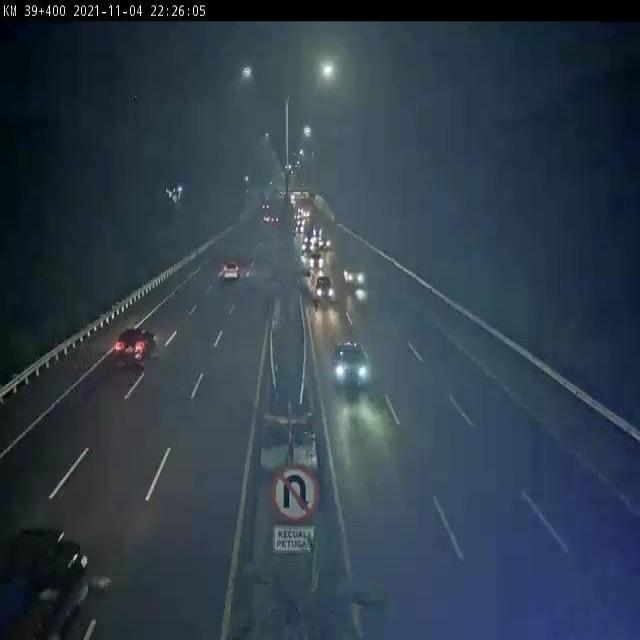car: (116, 320, 159, 373), (335, 336, 375, 392), (216, 250, 250, 286), (314, 273, 338, 304), (306, 253, 328, 270)
truck-s-: (0, 520, 106, 640)
